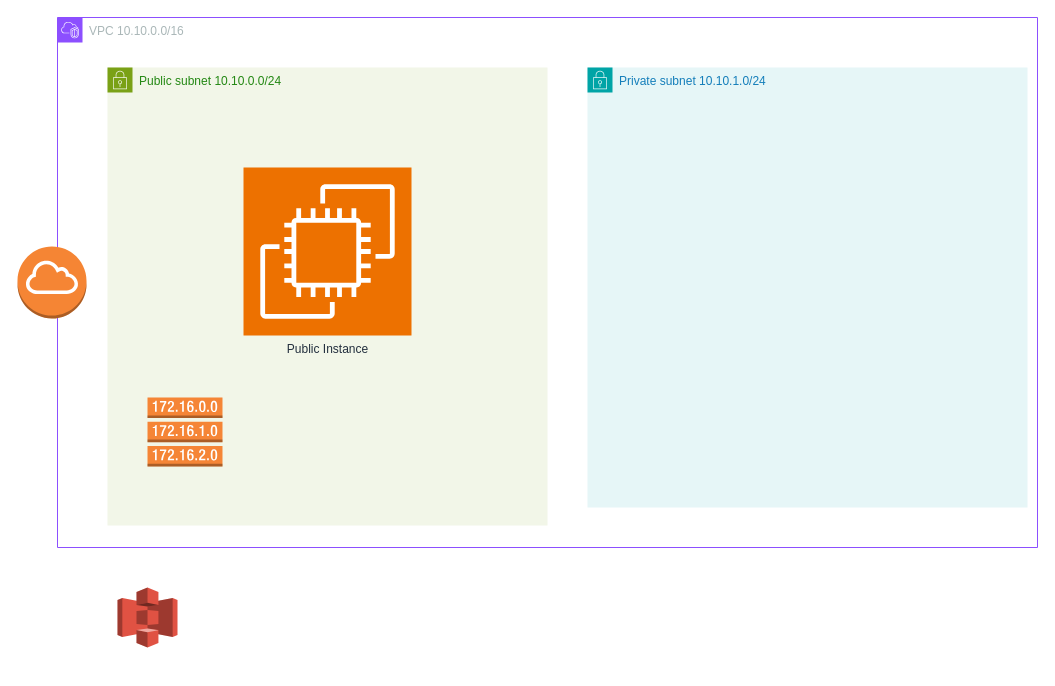
Image size: 1055x686. Some labels were removed from this diagram. Each missing label, with the centre of its shape:
coenta-valencia-0xn26v5h: point (147, 617)
Custom Route Table: point (184, 431)
